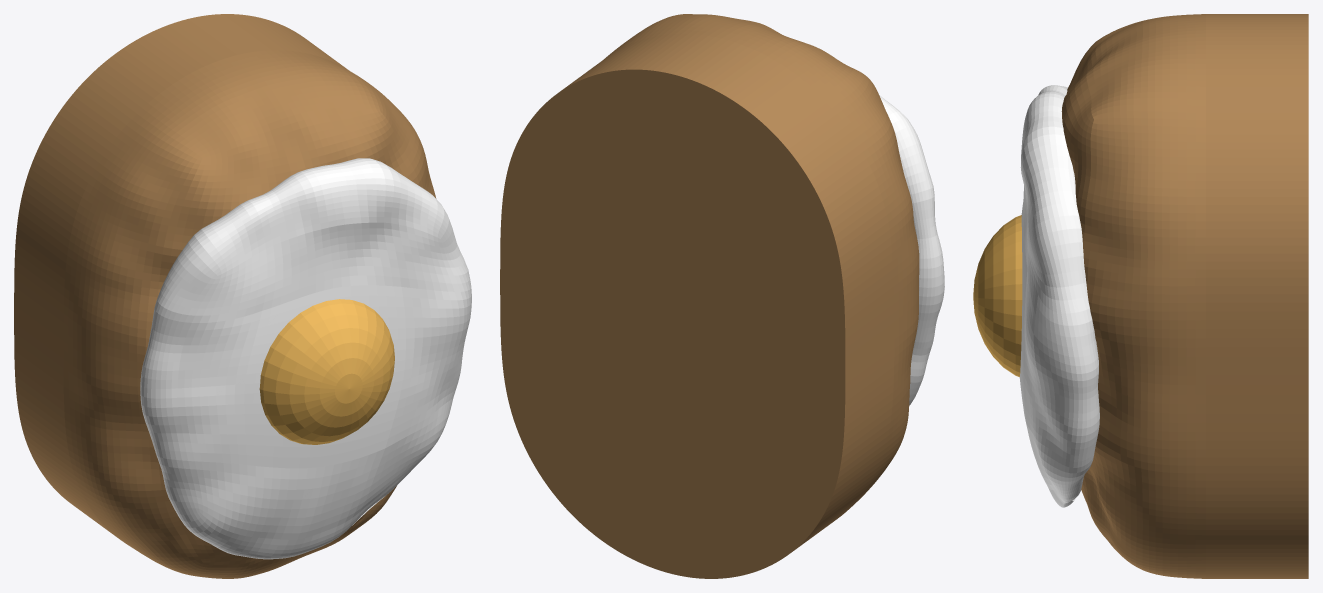
Rendered from egg.glb.
3 renders of one model, left to right at view 1: azimuth 30°, elevation 25°; view 2: azimuth 150°, elevation 25°; view 3: azimuth 270°, elevation 25°, orthographic. The views are drawn at different scales.
Parts seen in each view (by area): view 1: Cube.753, Plane.149, Sphere.051; view 2: Cube.753, Plane.149; view 3: Cube.753, Plane.149, Sphere.051.
Boxes of the visible parts, left/top/right/bottom form: Cube.753: left=14, top=14, right=436, bottom=578; Plane.149: left=140, top=158, right=471, bottom=559; Sphere.051: left=259, top=299, right=394, bottom=444; Cube.753: left=500, top=14, right=919, bottom=578; Plane.149: left=879, top=95, right=944, bottom=405; Cube.753: left=1061, top=14, right=1308, bottom=578; Plane.149: left=1019, top=85, right=1099, bottom=507; Sphere.051: left=973, top=215, right=1022, bottom=376.
Size of the model in its own units: 10.01 by 13.84 by 8.
